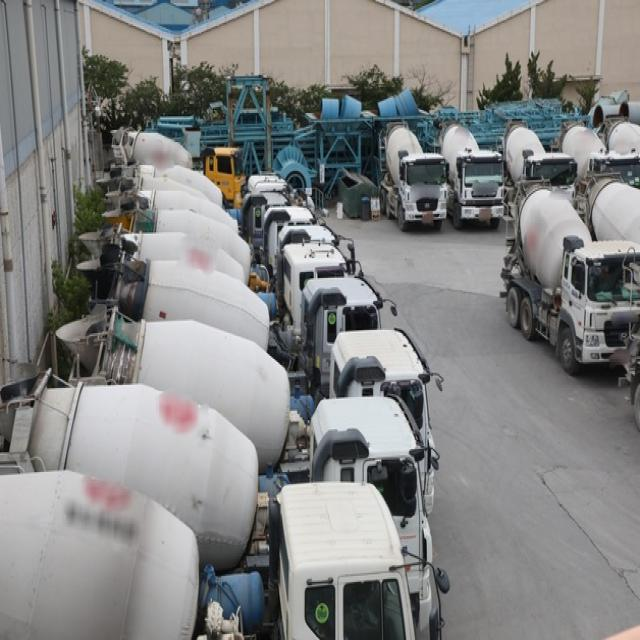Mixer Truck: (0, 368, 435, 634), (54, 304, 435, 518), (0, 468, 417, 638), (74, 253, 384, 401), (76, 231, 351, 342), (500, 185, 640, 379), (101, 202, 341, 296), (101, 184, 321, 252), (95, 171, 300, 242), (108, 126, 248, 213), (107, 161, 300, 223), (434, 118, 506, 234), (377, 118, 448, 233), (573, 171, 640, 257), (498, 119, 550, 211), (557, 117, 608, 210), (607, 115, 640, 176)
